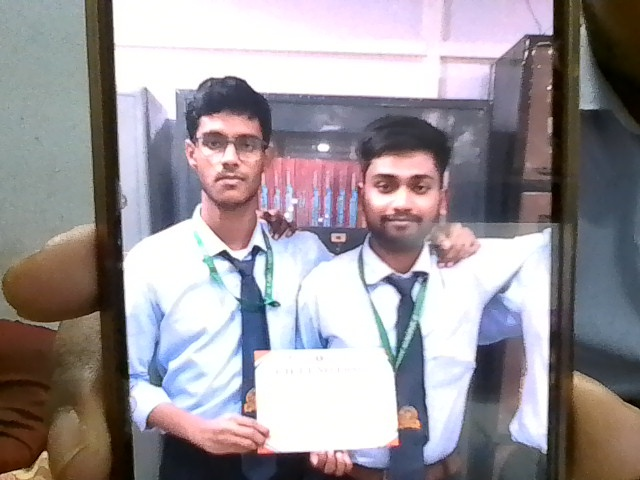real: (351, 110, 455, 257)
